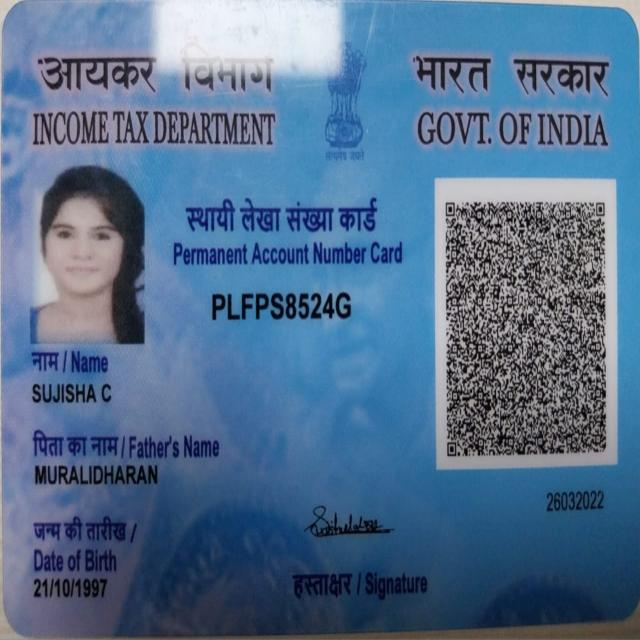pan_card: (2, 5, 636, 635)
